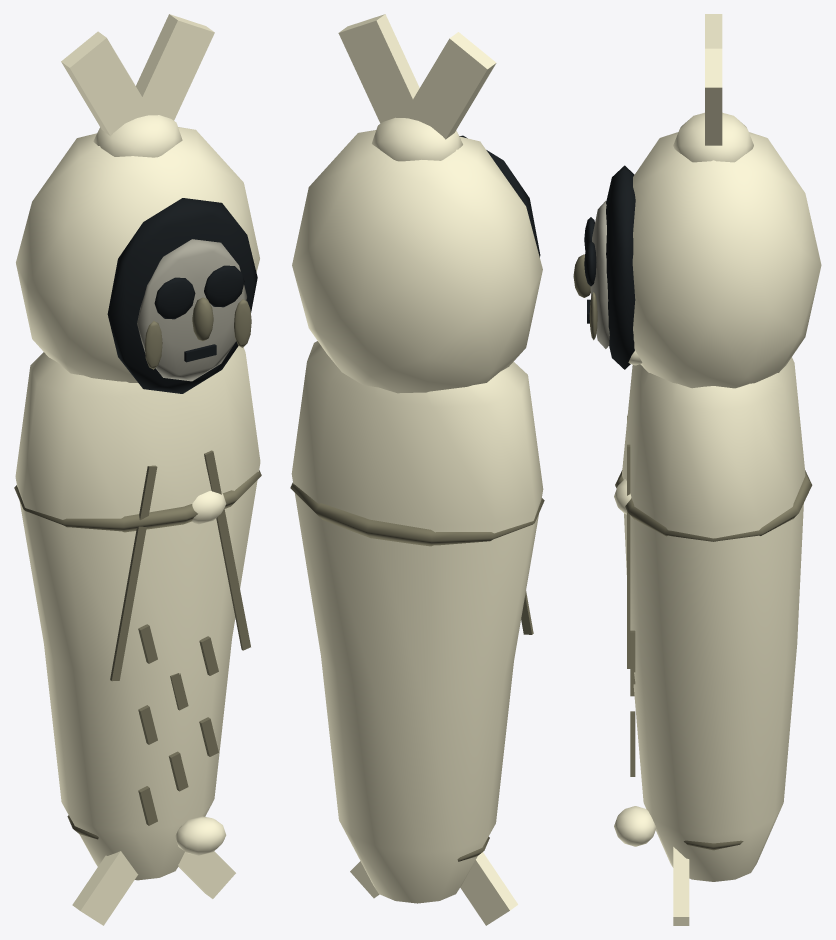
Rendered from pocong.glb.
3 views of the same model, side by side, from view 1: azimuth 30°, elevation 25°; view 2: azimuth 150°, elevation 25°; view 3: azimuth 270°, elevation 25° (orthographic). The views are drawn at different scales.
Parts seen in each view (by area): view 1: Pocong, head; view 2: Pocong, head; view 3: Pocong, head.
Part boxes in pixels (bbox=[...]): Pocong: bbox=[14, 346, 261, 925]; head: bbox=[16, 14, 259, 393]; Pocong: bbox=[290, 341, 544, 925]; head: bbox=[292, 14, 542, 393]; Pocong: bbox=[614, 350, 812, 925]; head: bbox=[573, 14, 821, 388].
Size of the model in its own units: 0.98 by 3.55 by 0.92.
